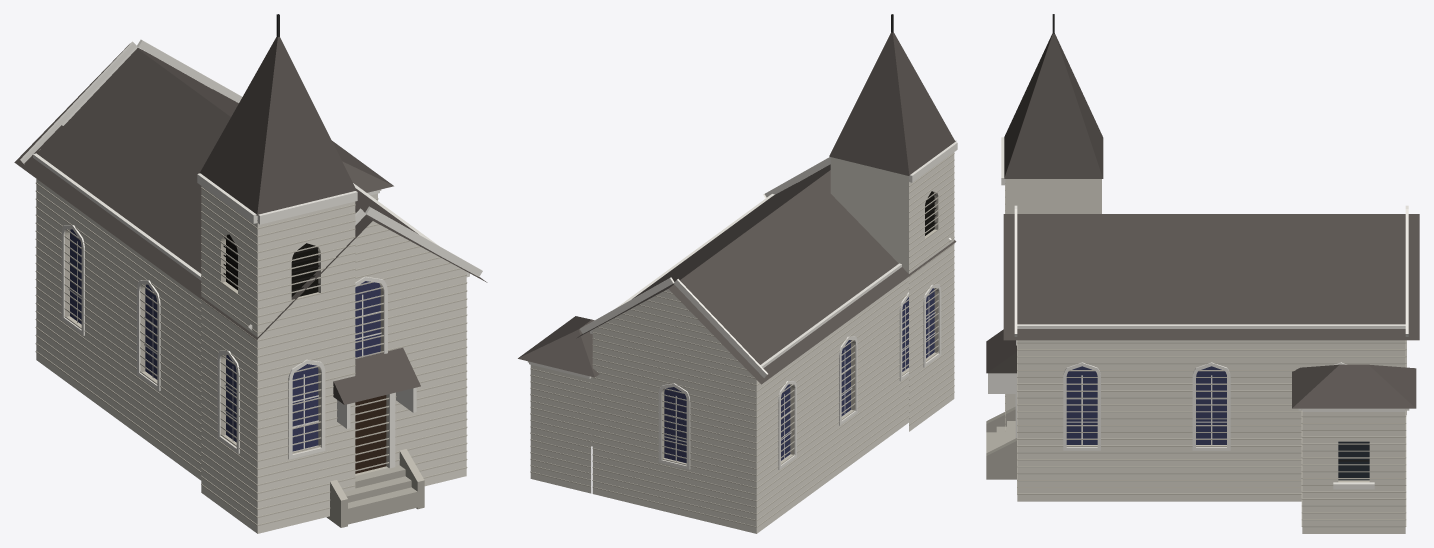
File: ch-mount-tabor-baptist-1913.glb
3 renders of one model, left to right at view 1: azimuth 30°, elevation 25°; view 2: azimuth 150°, elevation 25°; view 3: azimuth 270°, elevation 25°, orthographic. The views are drawn at different scales.
Visible parts, largest first — view 1: ch_brick, ch_roof, ch_brick2, ch_roof2, ch_trim, ch_stain, ch_conc, ch_door, ch_shadow; view 2: ch_brick, ch_roof, ch_brick2, ch_roof2, ch_trim, ch_stain; view 3: ch_roof, ch_brick, ch_brick2, ch_roof2, ch_trim, ch_stain, ch_conc, ch_glass.
Part boxes in pixels (box(x1,y1,x2,y2)): ch_brick: box(36, 179, 466, 533); ch_roof: box(14, 44, 487, 339); ch_brick2: box(35, 118, 467, 525); ch_roof2: box(200, 37, 420, 404); ch_trim: box(20, 39, 482, 468); ch_stain: box(70, 229, 380, 451); ch_conc: box(326, 449, 424, 527); ch_door: box(355, 395, 386, 473); ch_shadow: box(226, 234, 318, 296); ch_brick: box(530, 152, 954, 533); ch_roof: box(518, 164, 956, 384); ch_brick2: box(530, 153, 954, 527); ch_roof2: box(829, 32, 955, 175); ch_trim: box(527, 140, 957, 469); ch_stain: box(664, 288, 934, 463); ch_roof: box(1003, 214, 1419, 408); ch_brick: box(1005, 179, 1405, 533); ch_brick2: box(1005, 183, 1406, 527); ch_roof2: box(986, 33, 1103, 373); ch_trim: box(988, 137, 1409, 489); ch_stain: box(1066, 366, 1226, 444); ch_conc: box(986, 406, 1016, 479); ch_glass: box(1338, 441, 1369, 480).
Bounding box in the file's own units: 8.84 × 13.45 × 12.56.
